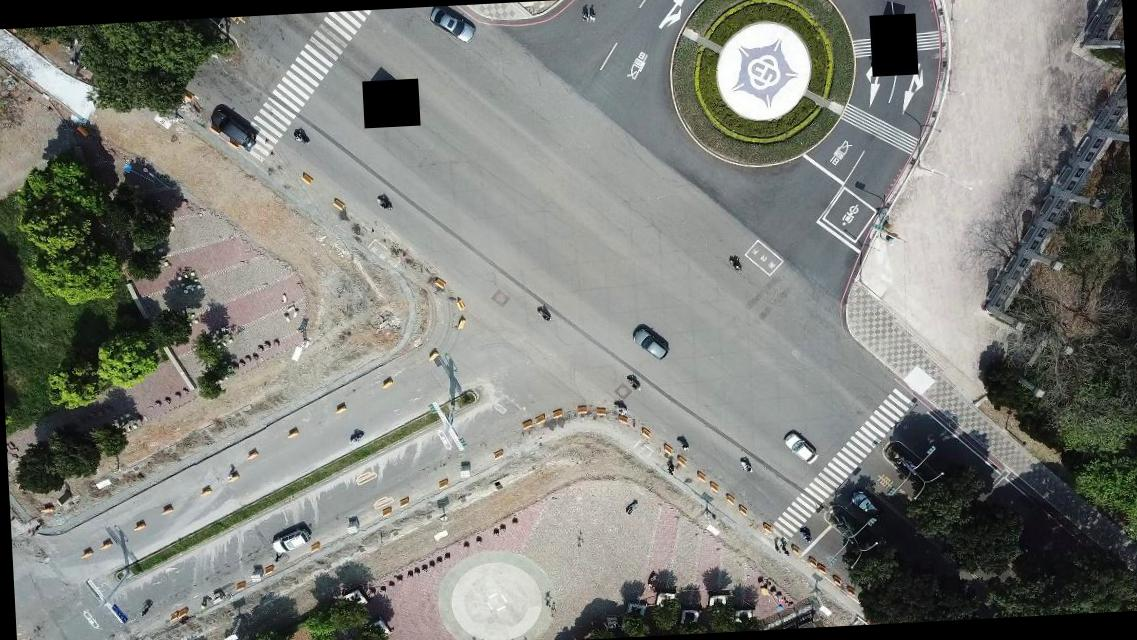vehicle: (208, 106, 258, 152), (427, 5, 476, 46), (630, 325, 670, 363), (782, 430, 818, 466), (270, 525, 310, 554), (849, 488, 879, 520)
